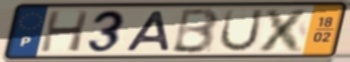3: (84, 7, 133, 55)
A: (123, 10, 173, 52)
B: (169, 6, 221, 55)
H: (38, 9, 92, 54)
U: (217, 7, 267, 54)
X: (255, 7, 314, 54)
